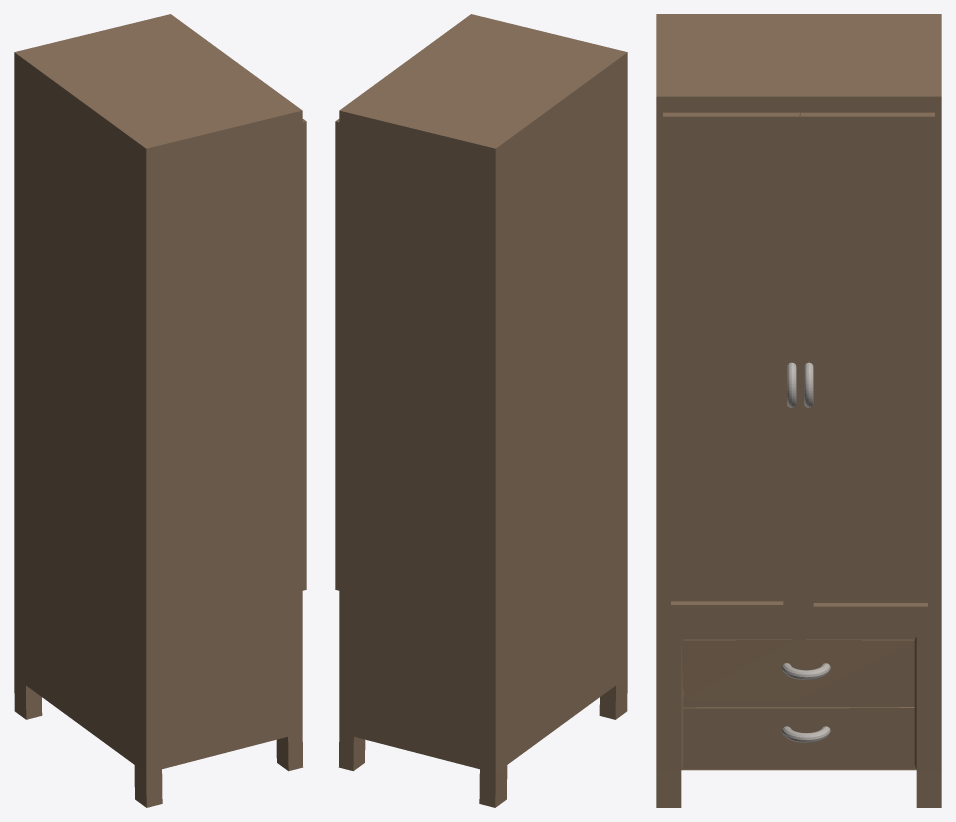
The model's file is MaybeAWardrobe (1).fbx.
The picture shows the model from 3 angles, left to right: view 1: azimuth 30°, elevation 25°; view 2: azimuth 150°, elevation 25°; view 3: azimuth 270°, elevation 25°; orthographic projection. The views are drawn at different scales.
Parts seen in each view (by area): view 1: Cube; view 2: Cube; view 3: Cube, Torus.002, Torus.003.
Boxes of the visible parts, <box> form: Cube: <box>14,14,306,807</box>; Cube: <box>335,14,627,807</box>; Cube: <box>656,14,941,807</box>; Torus.002: <box>782,663,830,679</box>; Torus.003: <box>782,726,830,742</box>.
Bounding box in the file's own units: 116 × 403 × 146.
